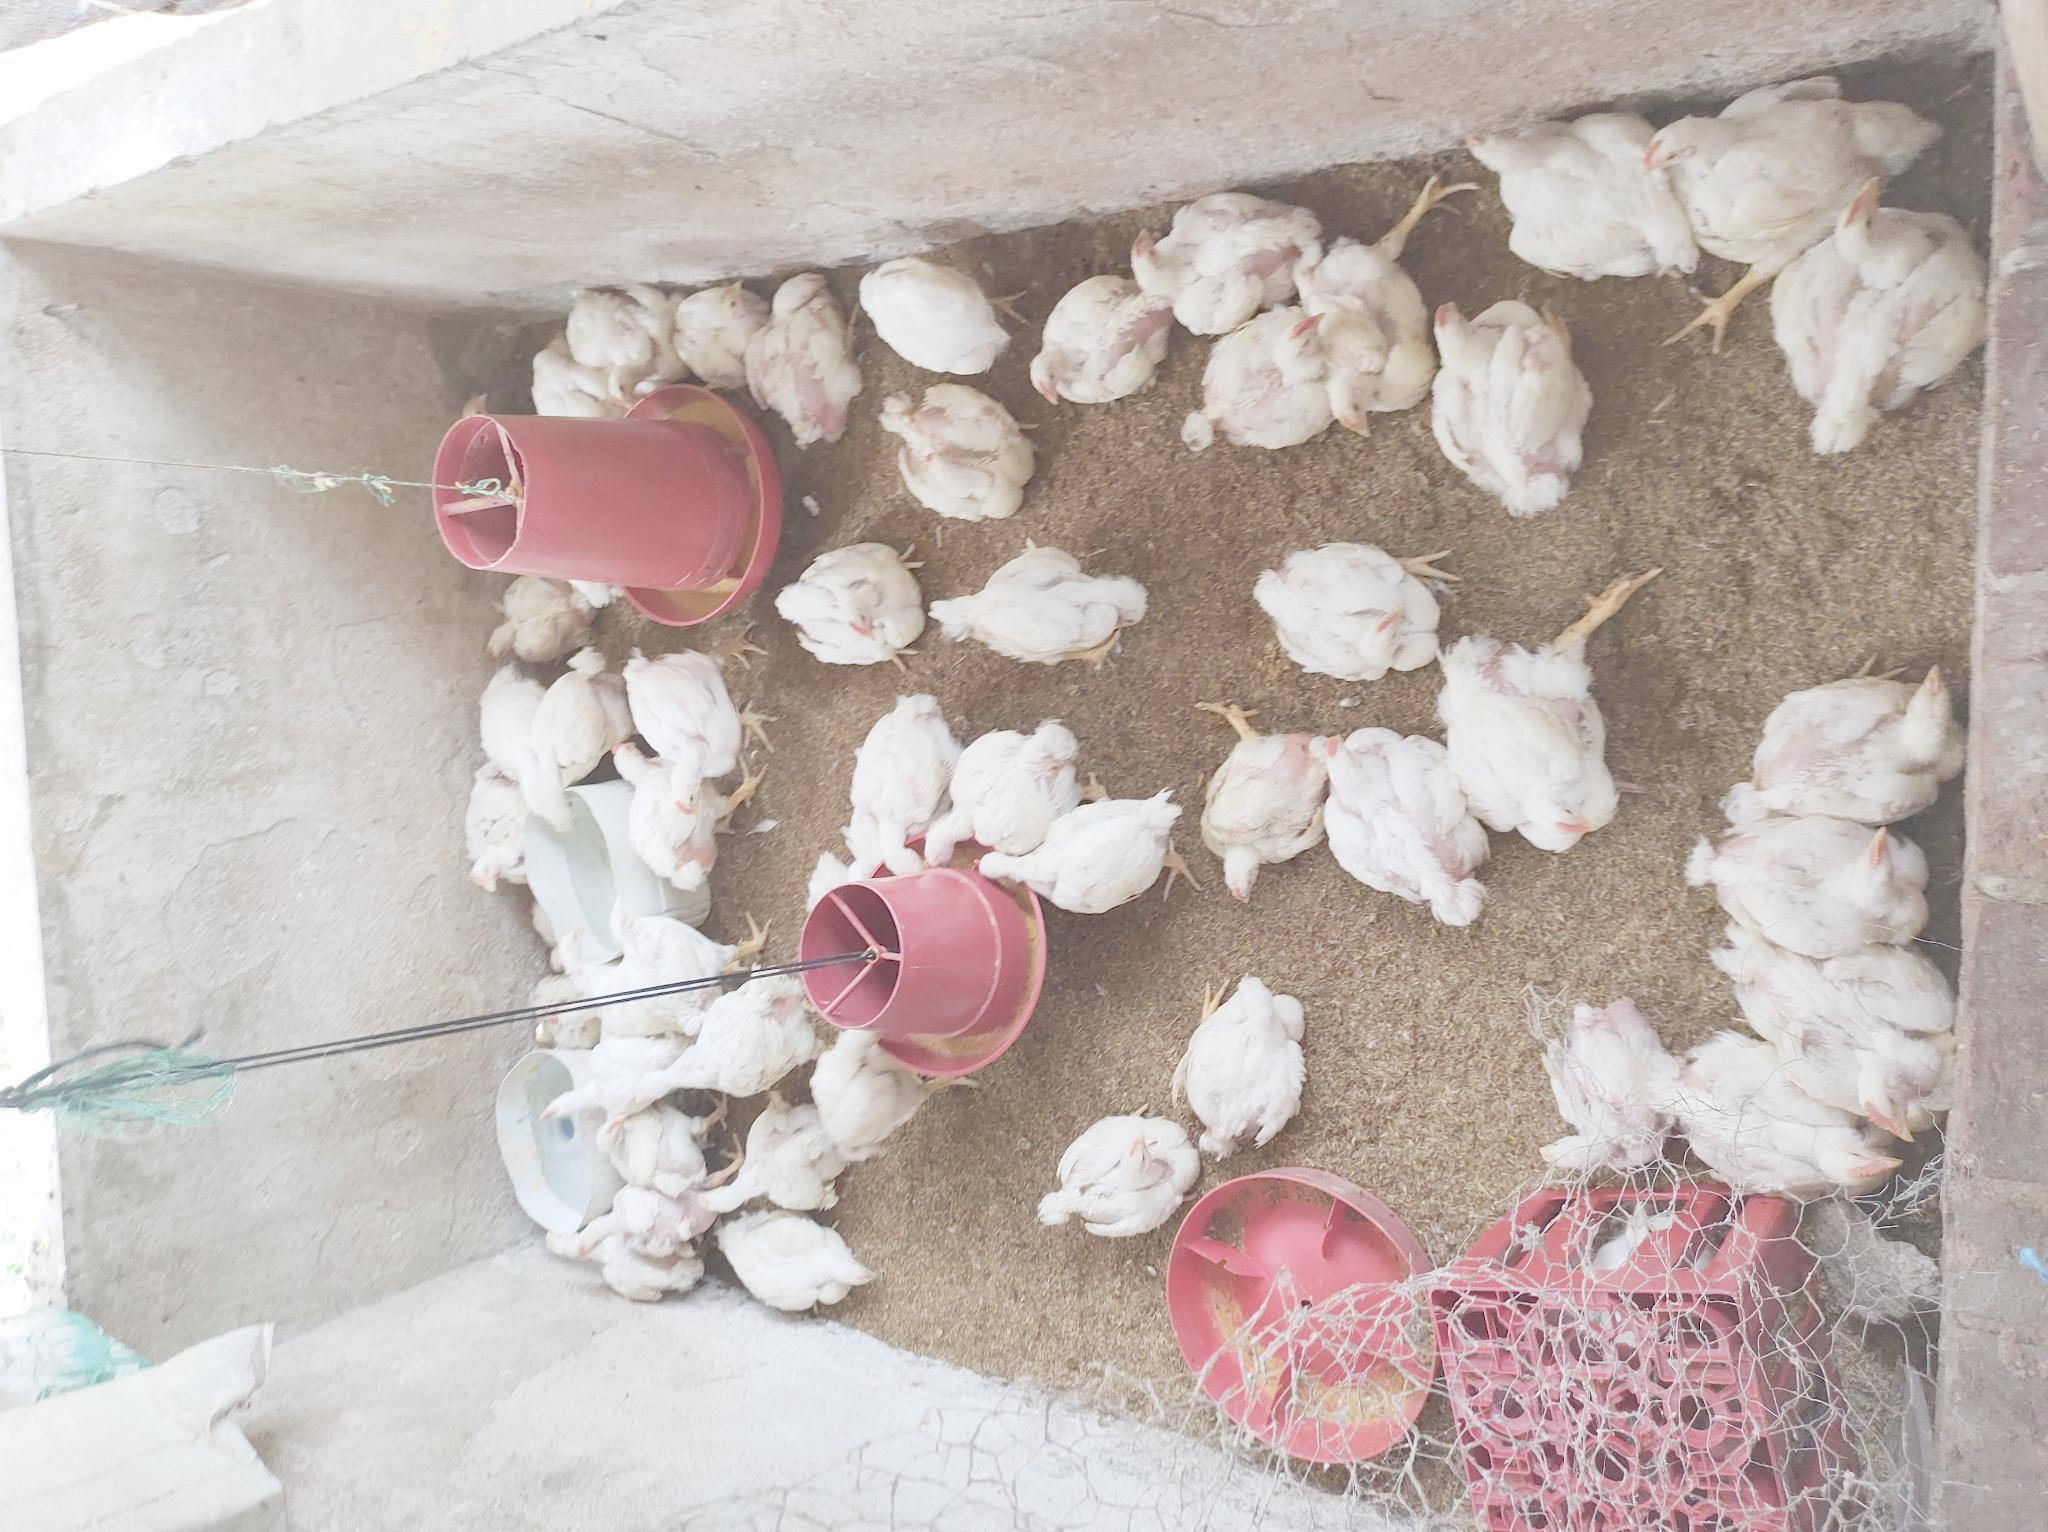Pollos: (1638, 69, 1947, 275), (1771, 171, 1984, 451), (1718, 917, 1960, 1149), (1417, 629, 1622, 861), (1454, 105, 1709, 280), (1422, 286, 1602, 518), (1672, 1030, 1910, 1202), (1739, 657, 1960, 829), (1704, 806, 1931, 957), (1327, 731, 1498, 924), (1522, 995, 1692, 1173), (1303, 230, 1446, 439), (931, 537, 1160, 668), (1128, 188, 1322, 332), (1256, 536, 1441, 679), (631, 961, 808, 1110), (1176, 969, 1308, 1160), (1030, 1107, 1203, 1247), (973, 800, 1179, 917), (1202, 727, 1335, 908), (1181, 306, 1347, 447), (920, 723, 1080, 869), (627, 632, 751, 816), (882, 381, 1039, 521), (594, 732, 722, 892), (1025, 275, 1176, 409), (775, 542, 923, 674), (853, 256, 1005, 380), (849, 694, 952, 875), (746, 269, 853, 444), (608, 888, 730, 1040), (693, 1098, 843, 1220), (524, 665, 627, 842), (808, 1027, 936, 1168), (713, 1212, 878, 1321), (536, 1030, 697, 1135), (537, 1223, 706, 1307), (573, 282, 684, 396), (457, 658, 557, 776), (476, 576, 603, 668), (573, 1188, 713, 1263), (594, 1102, 705, 1197), (672, 278, 764, 389), (524, 325, 619, 431), (470, 768, 529, 911), (545, 924, 631, 1019)
